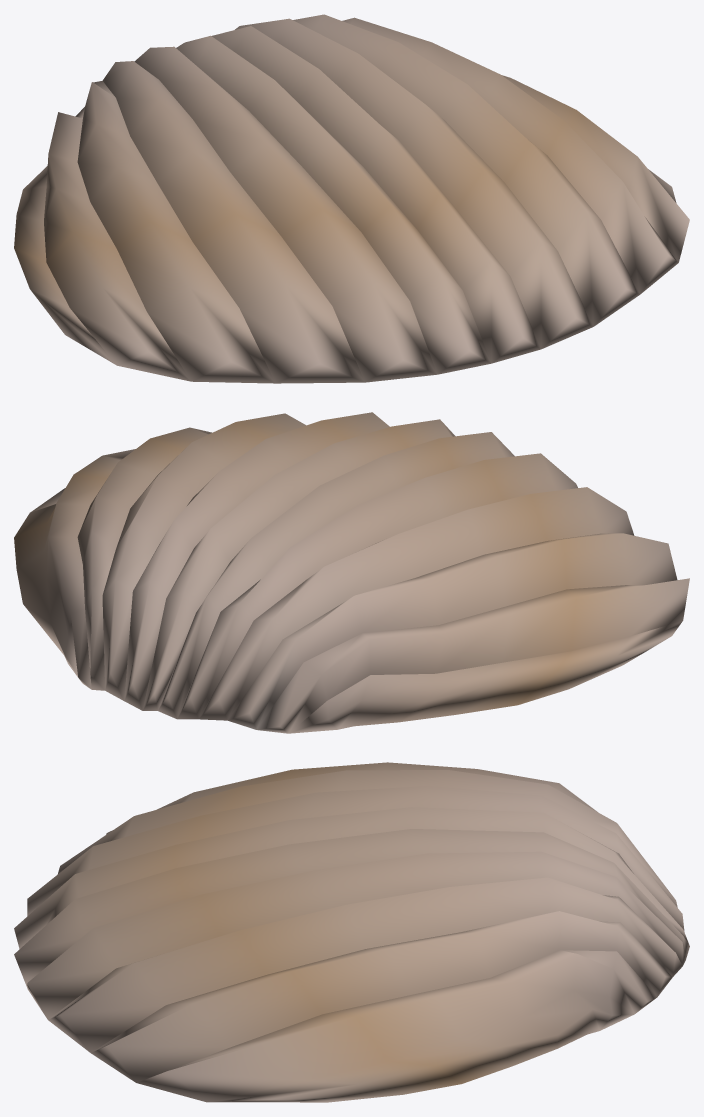
Rendered from underwater-shells-cockle-shell_v3.glb.
3 renders of one model, top to bottom at view 1: azimuth 30°, elevation 25°; view 2: azimuth 150°, elevation 25°; view 3: azimuth 270°, elevation 25°, orthographic.
Parts seen in each view (by area): view 1: Cockle Shell_v3; view 2: Cockle Shell_v3; view 3: Cockle Shell_v3.
Part boxes in pixels (left/top/right/bottom): Cockle Shell_v3: left=14, top=14, right=689, bottom=383; Cockle Shell_v3: left=14, top=412, right=689, bottom=733; Cockle Shell_v3: left=14, top=762, right=689, bottom=1102.
Bounding box in the file's own units: 0.06 × 0.0139 × 0.058.
